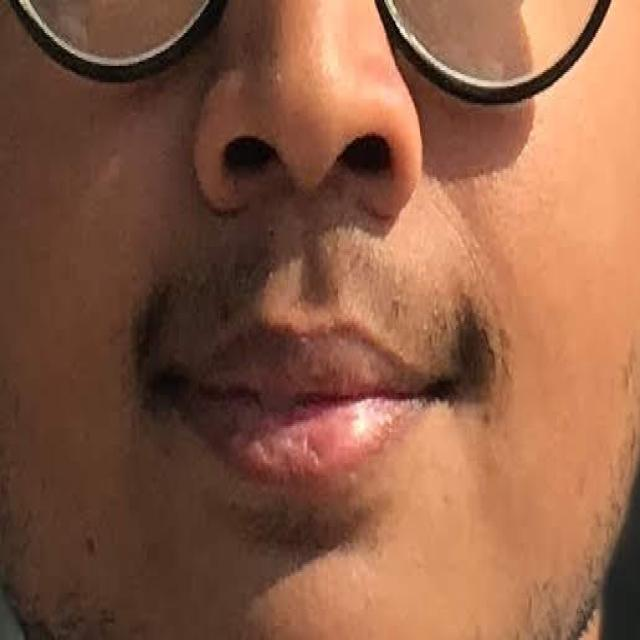normal_tongue: (136, 271, 482, 516)
